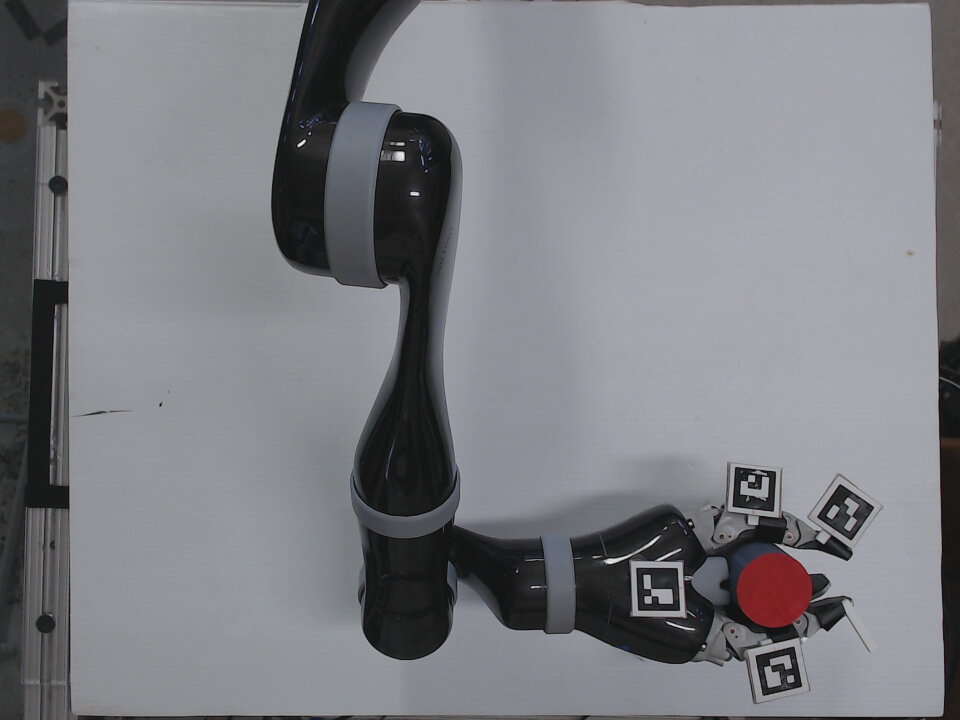cylinder: (724, 535, 816, 631)
